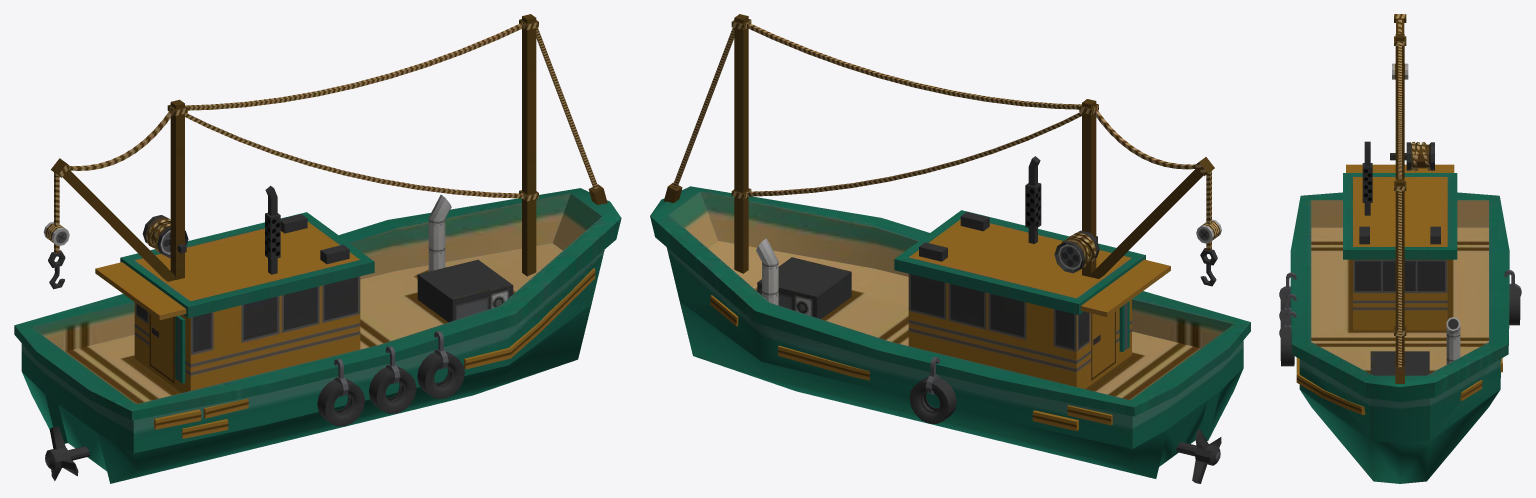
Rendered from Yatch2.glb.
3 renders of one model, left to right at view 1: azimuth 30°, elevation 25°; view 2: azimuth 150°, elevation 25°; view 3: azimuth 270°, elevation 25°, orthographic. The views are drawn at different scales.
Visible parts, largest first — view 1: Boat; view 2: Boat; view 3: Boat.
Boxes of the visible parts, x1,y1,x2,y2 form: Boat: [14, 14, 621, 483]; Boat: [650, 14, 1250, 483]; Boat: [1279, 14, 1521, 483].
Size of the model in its own units: 929 by 558 by 410.
Materials: 1 (1 with a texture image).
